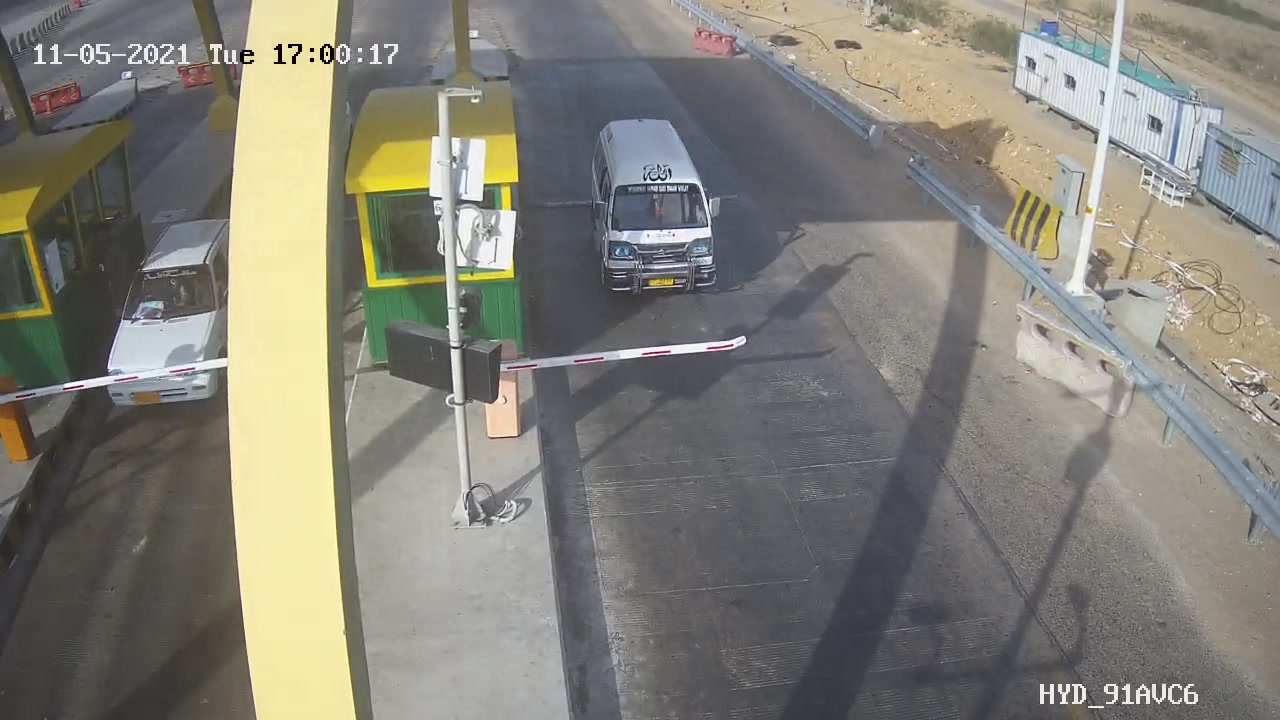F1: (572, 105, 744, 320)
